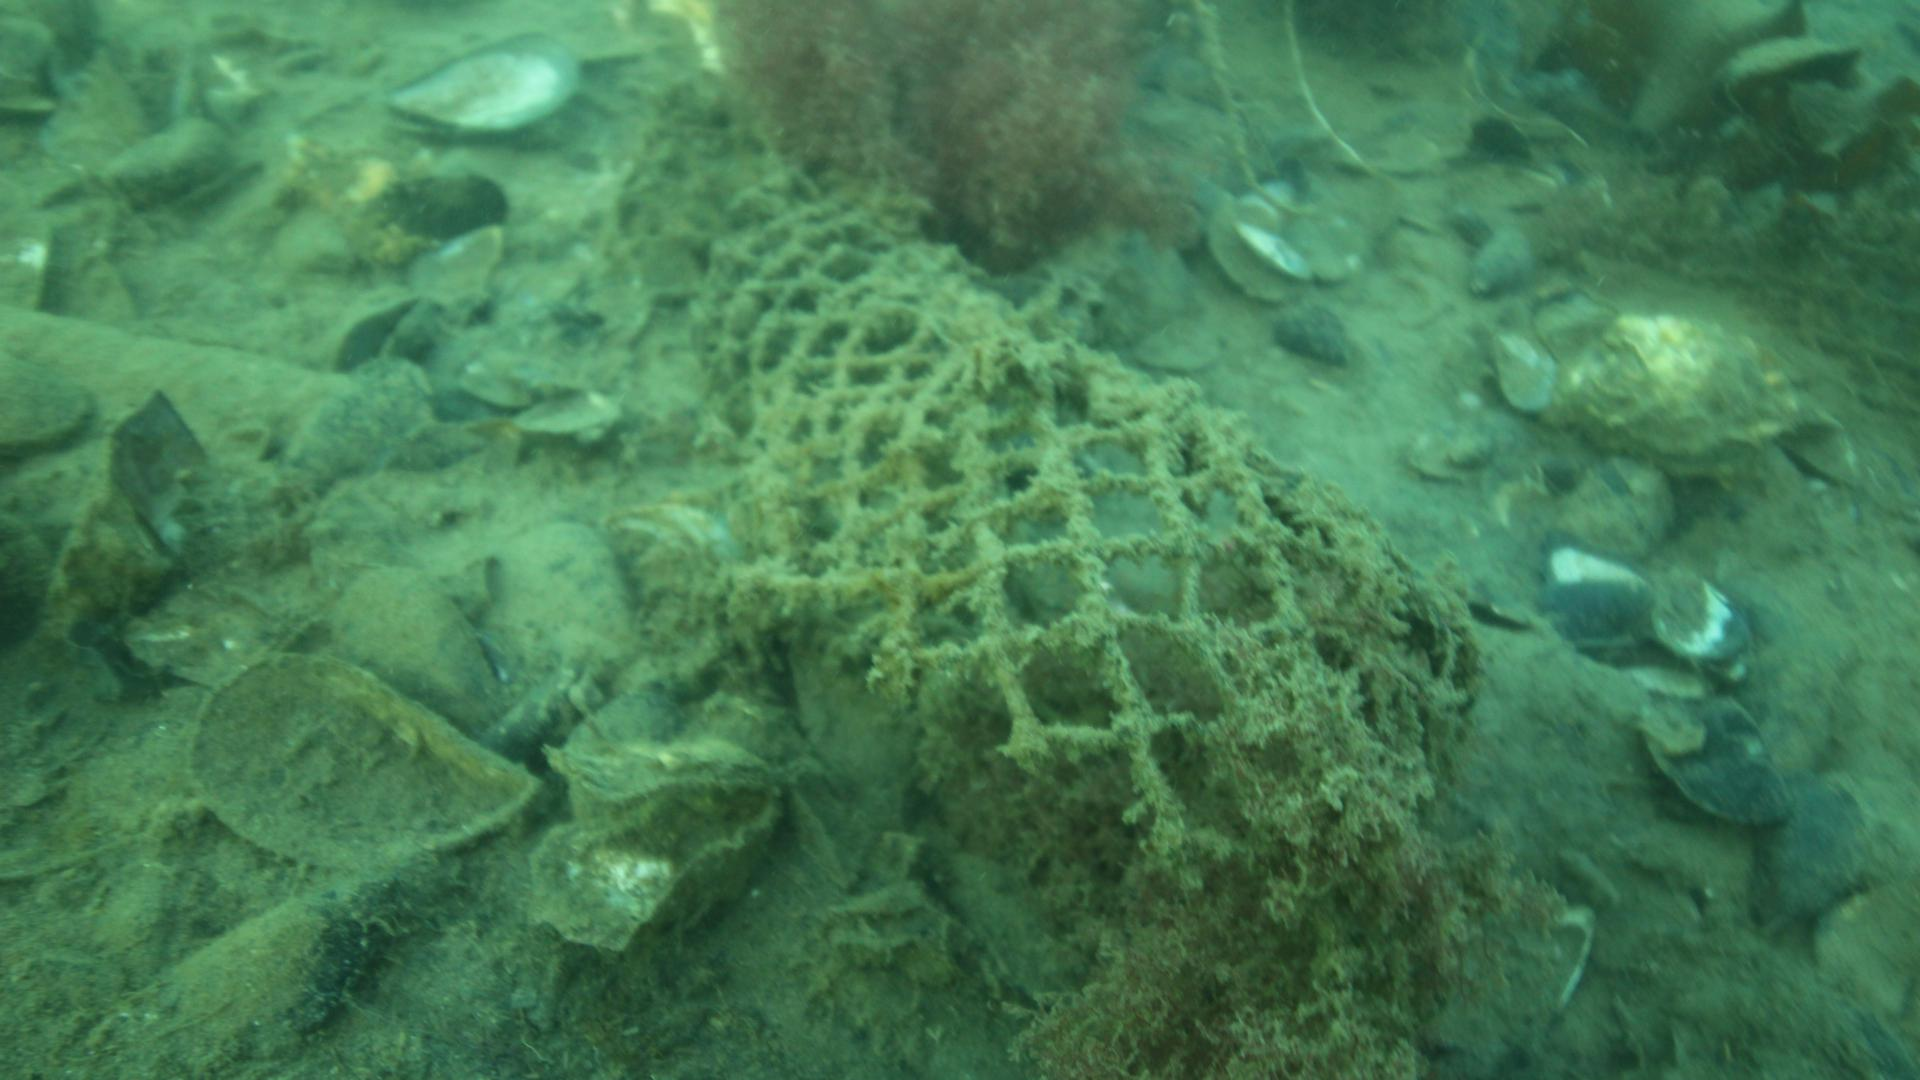fish net: (637, 82, 1390, 752)
